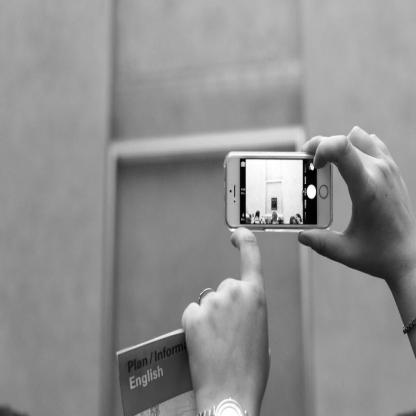Camera: (229, 163, 348, 246)
